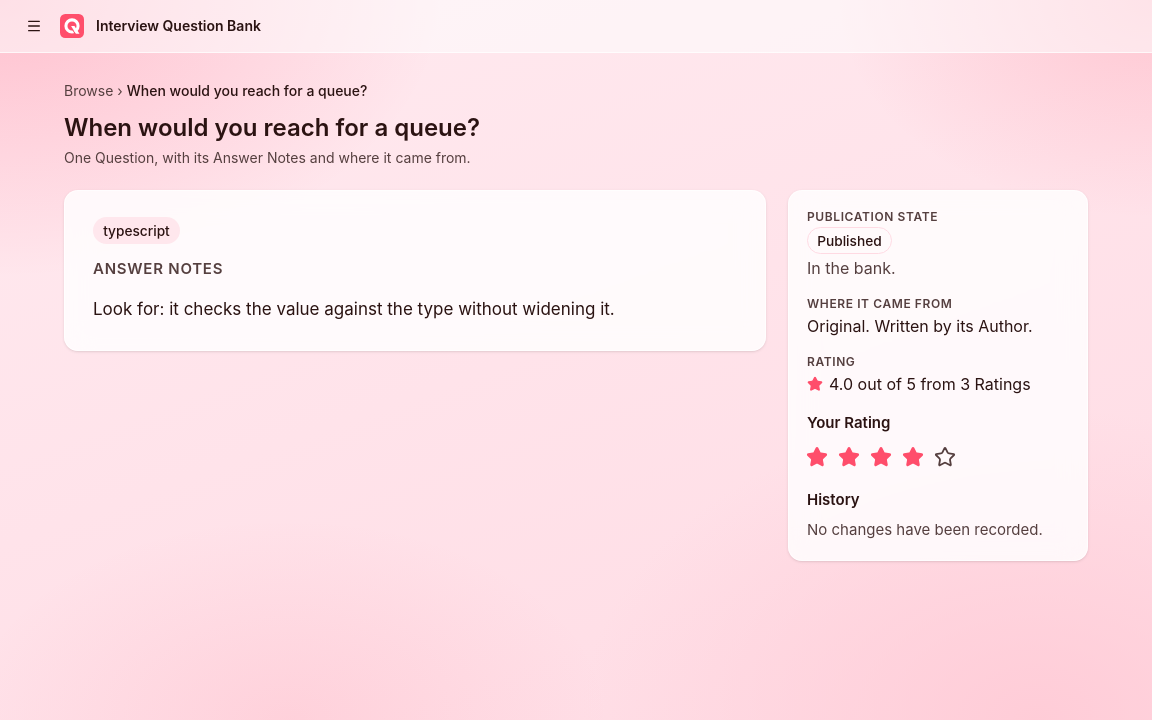
Test: rating a Question › changes a Rating the Viewer already gave
Check: the heading "When would you reach for a queue?" is shown, box [64, 113, 480, 142]
Click the button named "2 out of 5": click(849, 457) [833, 441, 865, 473]
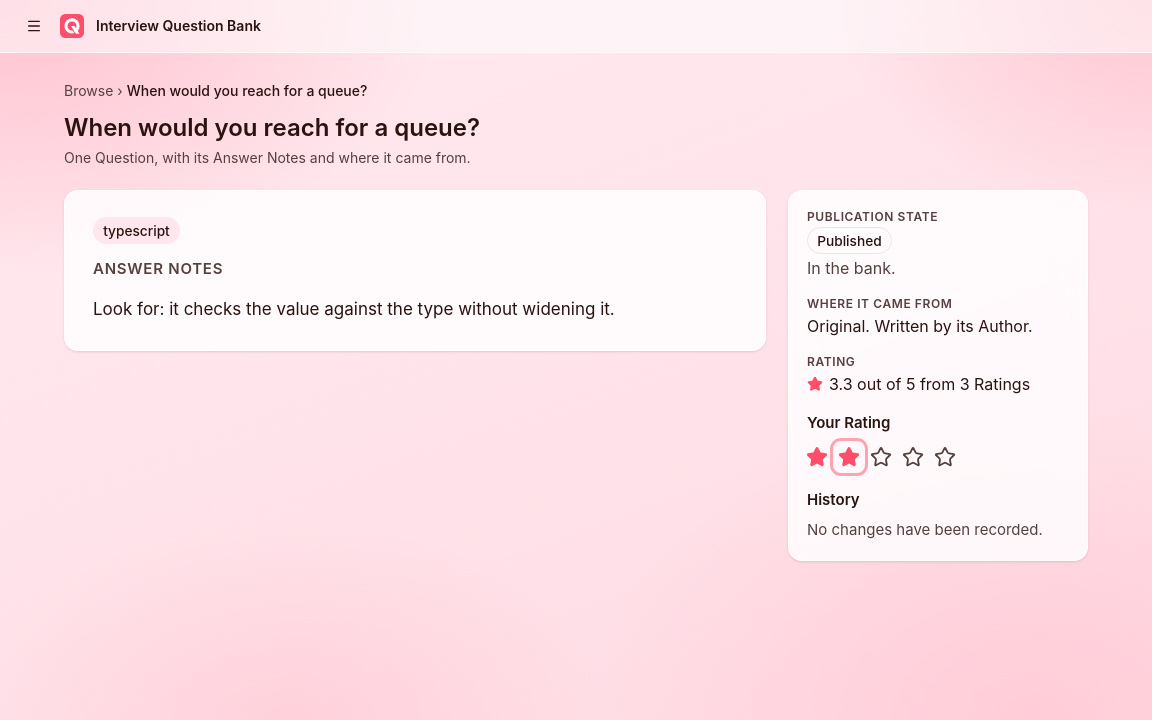
Check: the text "3.3 out of 5 from 3 Ratings" is shown, box [829, 372, 1030, 396]
